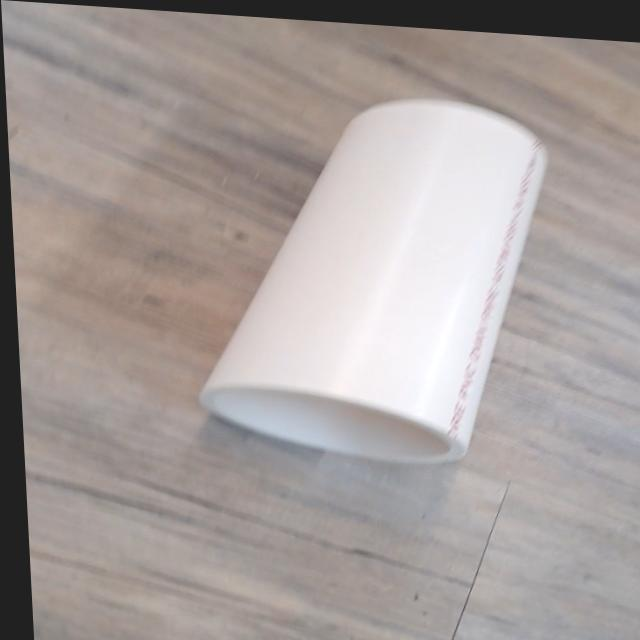CORAL: (157, 47, 632, 515)
